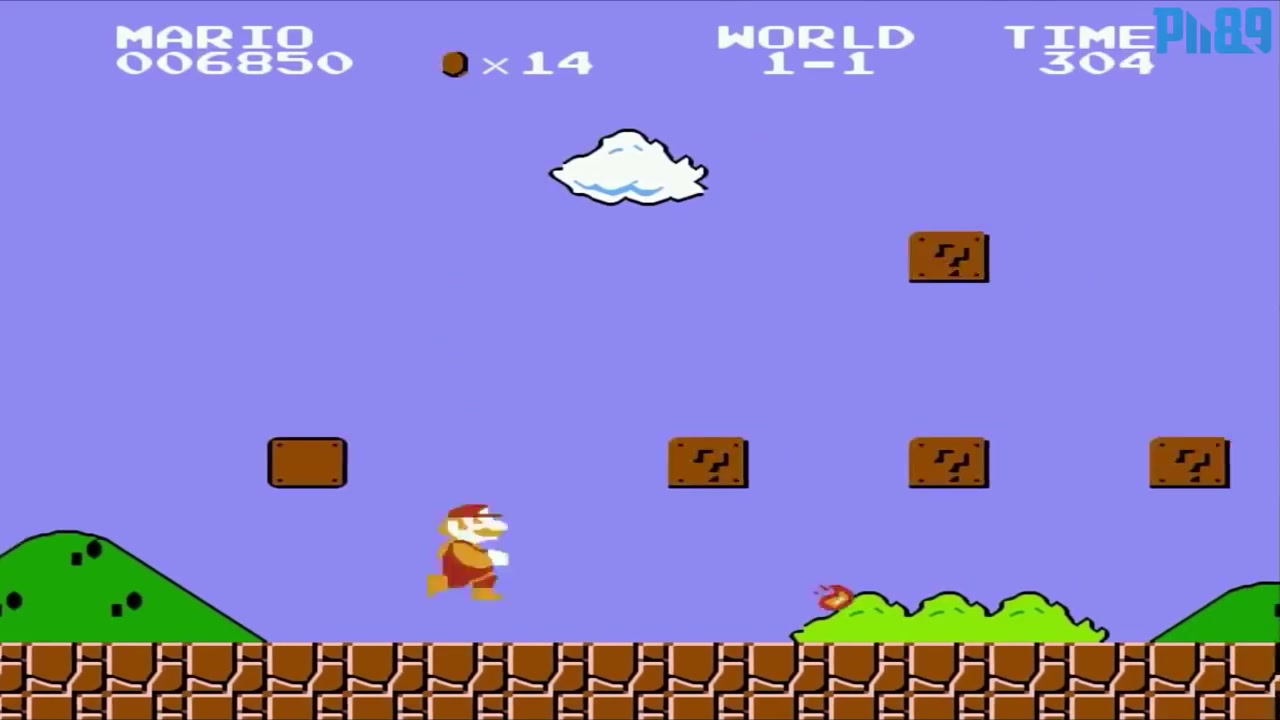mario: (422, 492, 518, 606)
